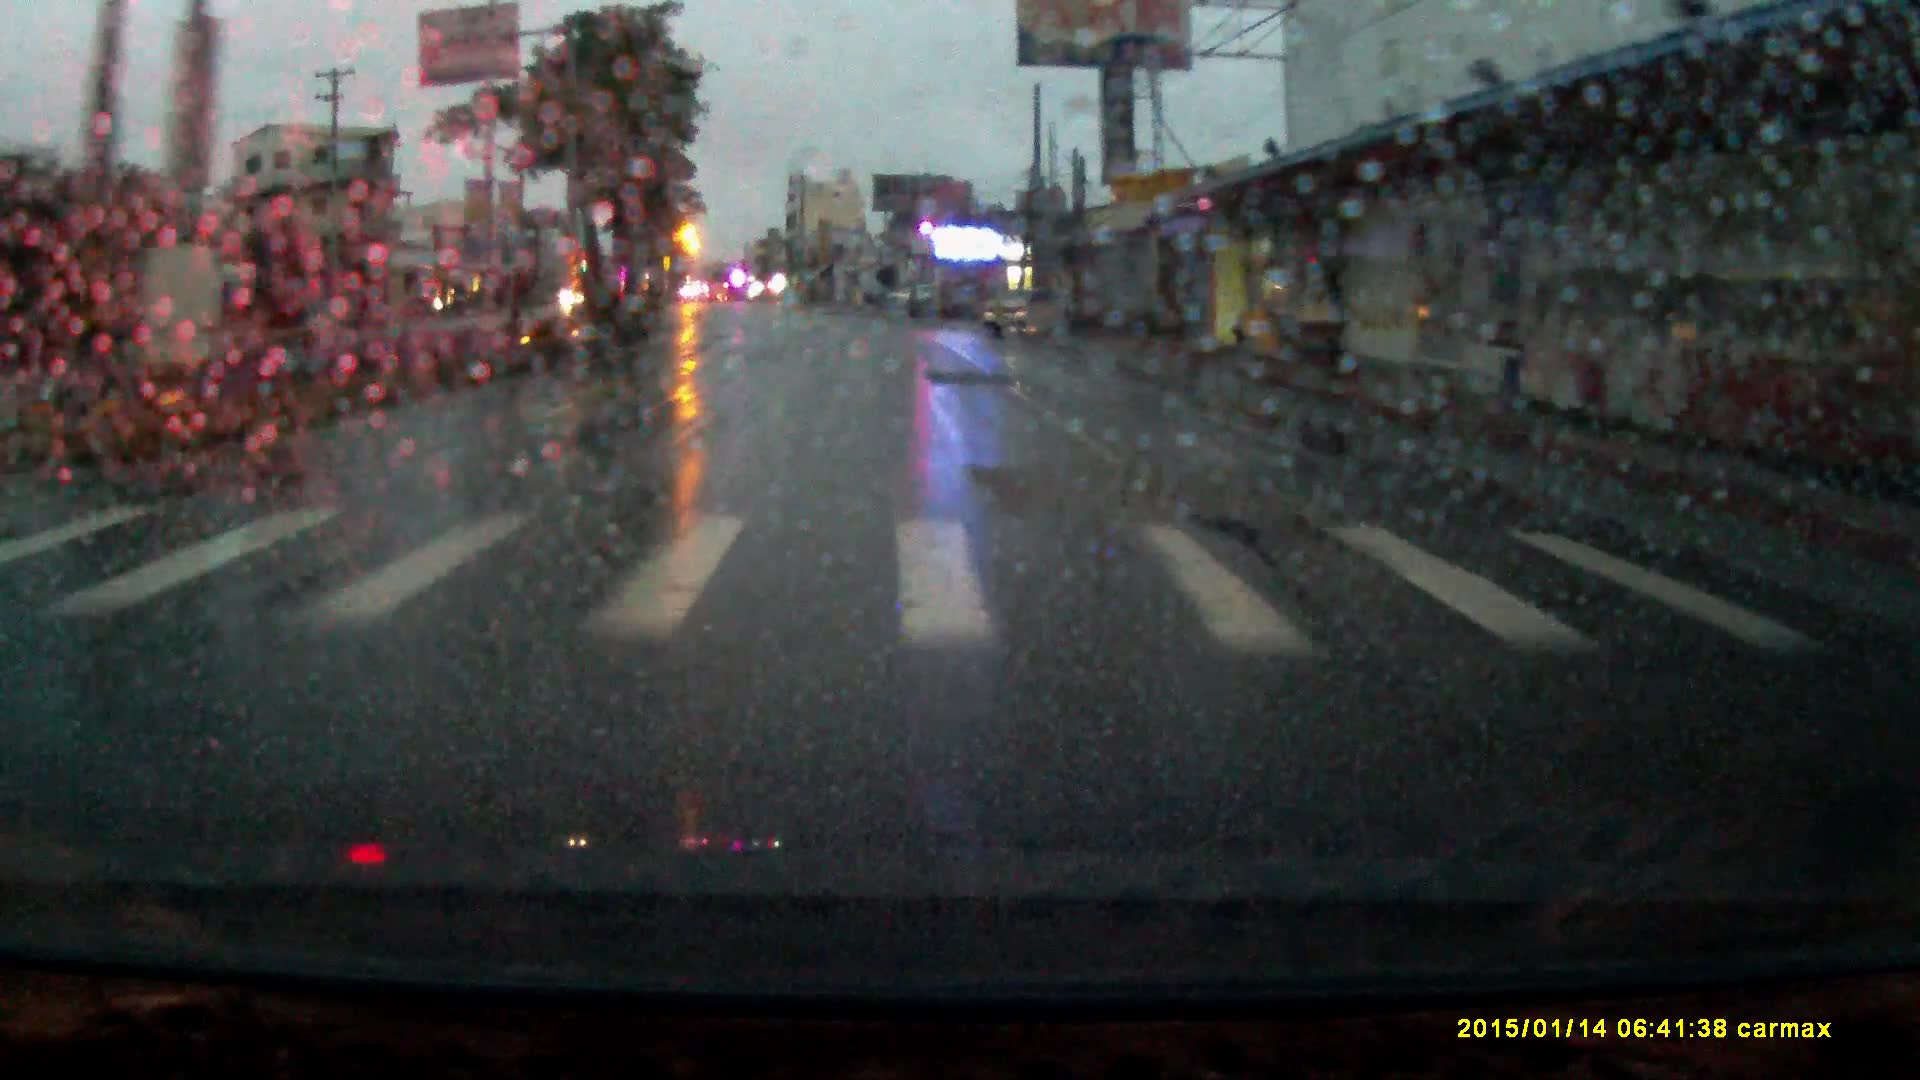vehicle: (982, 287, 1071, 335), (885, 280, 936, 307)
